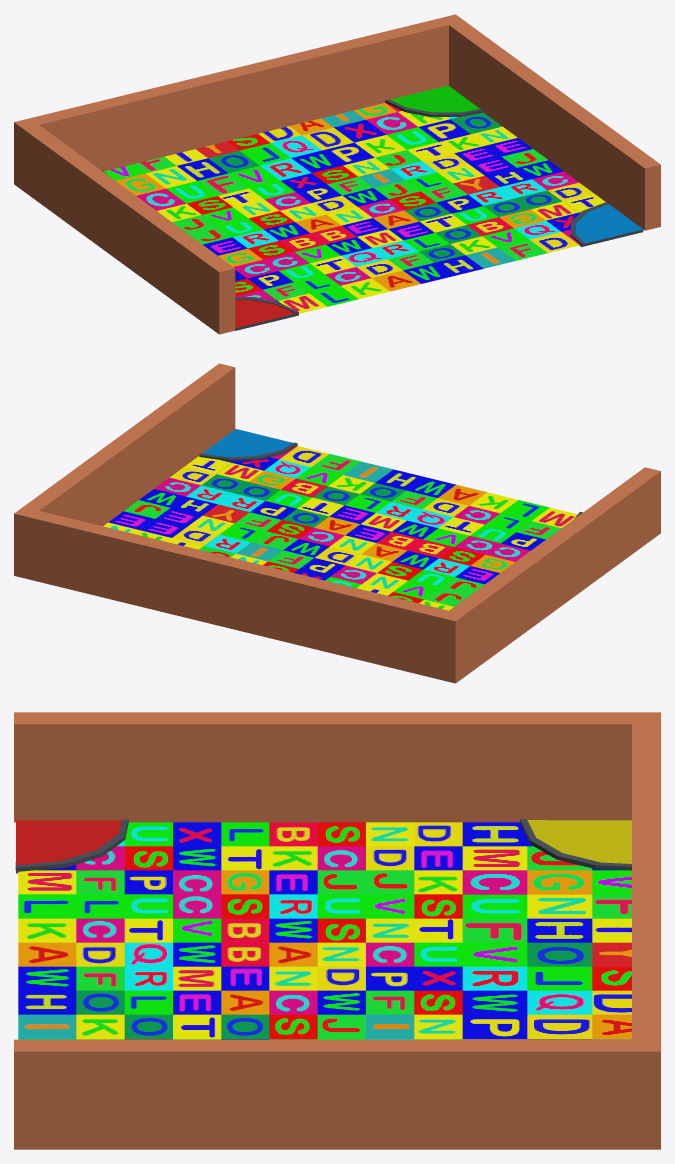
3 renders of one model, top to bottom at view 1: azimuth 30°, elevation 25°; view 2: azimuth 150°, elevation 25°; view 3: azimuth 270°, elevation 25°, orthographic. The views are drawn at different scales.
Parts seen in each view (by area): view 1: Floor, Walls, Base; view 2: Walls, Floor, Base; view 3: Walls, Floor, Base.
Part boxes in pixels (box(x1,y1,x2,y2)): Floor: box(104, 102, 605, 313); Walls: box(14, 14, 660, 334); Base: box(100, 85, 643, 330); Walls: box(14, 363, 660, 683); Floor: box(103, 446, 577, 610); Base: box(199, 429, 582, 518); Walls: box(14, 712, 660, 1149); Floor: box(18, 822, 631, 1039); Base: box(15, 819, 631, 873).
Bounding box in the file's own units: 3716 × 512 × 2992.
